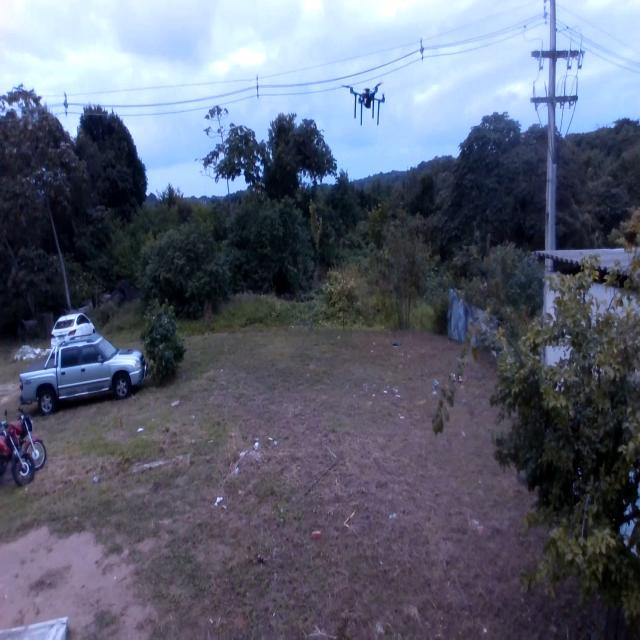-uav-: (333, 70, 396, 144)
